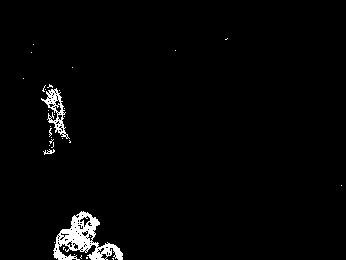person: (36, 82, 75, 159)
